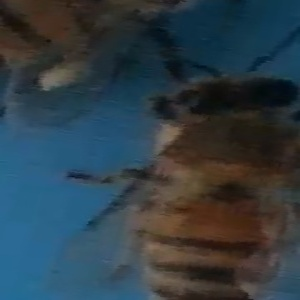bee: (135, 65, 300, 300)
